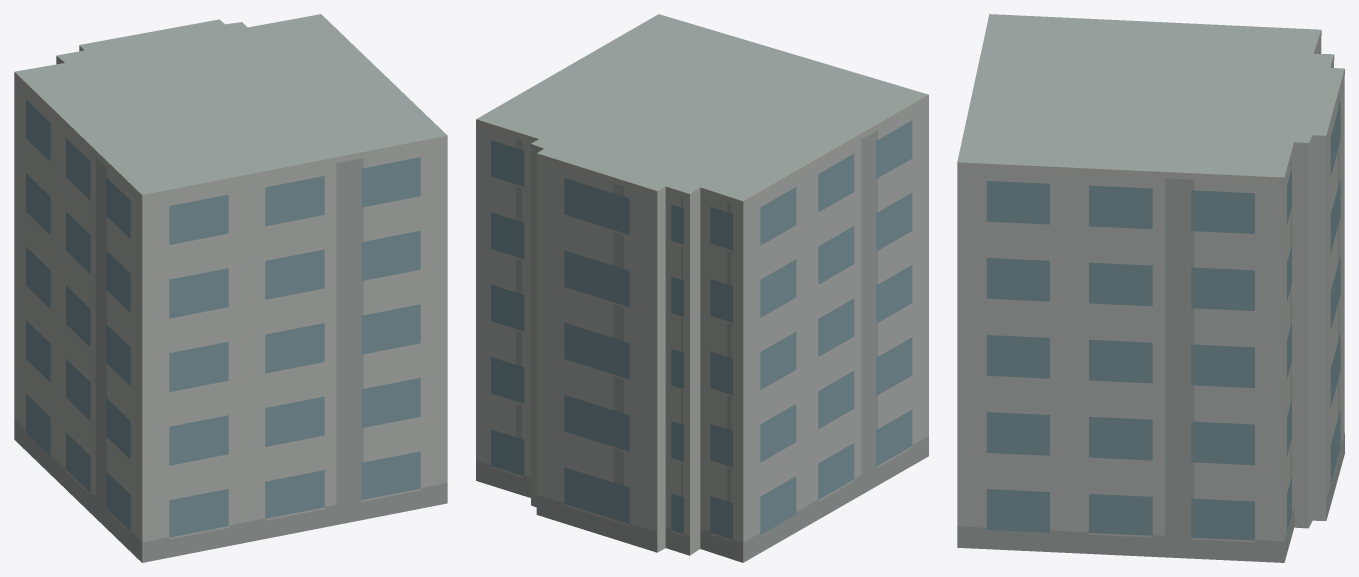
The model's file is survey-upis-32473115.glb.
3 views of the same model, side by side, from view 1: azimuth 30°, elevation 25°; view 2: azimuth 150°, elevation 25°; view 3: azimuth 270°, elevation 25° (orthographic). The views are drawn at different scales.
Parts seen in each view (by area): view 1: survey-upis-32473115.tmp; view 2: survey-upis-32473115.tmp; view 3: survey-upis-32473115.tmp.
Boxes of the visible parts, x1,y1,x2,y2 form: survey-upis-32473115.tmp: (14, 14, 447, 562); survey-upis-32473115.tmp: (476, 14, 928, 562); survey-upis-32473115.tmp: (957, 14, 1344, 562).
Size of the model in its own units: 13.43 by 14.75 by 13.45.
